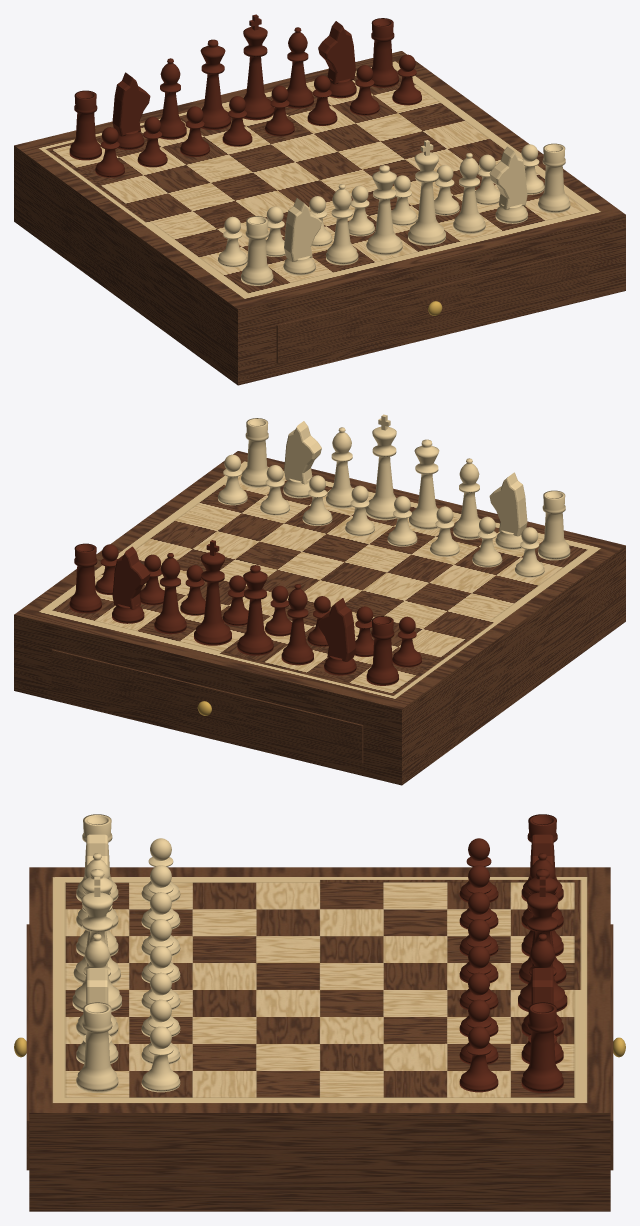
File: philidor-3d-noyer-tiroirs-32.glb
The picture shows the model from 3 angles, top to bottom: view 1: azimuth 30°, elevation 25°; view 2: azimuth 150°, elevation 25°; view 3: azimuth 270°, elevation 25°; orthographic projection. The views are drawn at different scales.
Parts seen in each view (by area): view 1: noyer-tiroirs-32; view 2: noyer-tiroirs-32; view 3: noyer-tiroirs-32.
Boxes of the visible parts, x1,y1,x2,y2 form: noyer-tiroirs-32: (14, 14, 625, 385); noyer-tiroirs-32: (14, 414, 625, 785); noyer-tiroirs-32: (14, 814, 625, 1211).
Size of what is drawn, in the model's own units: 0.32 by 0.136 by 0.3367.
Materials: 6 (3 with a texture image).
